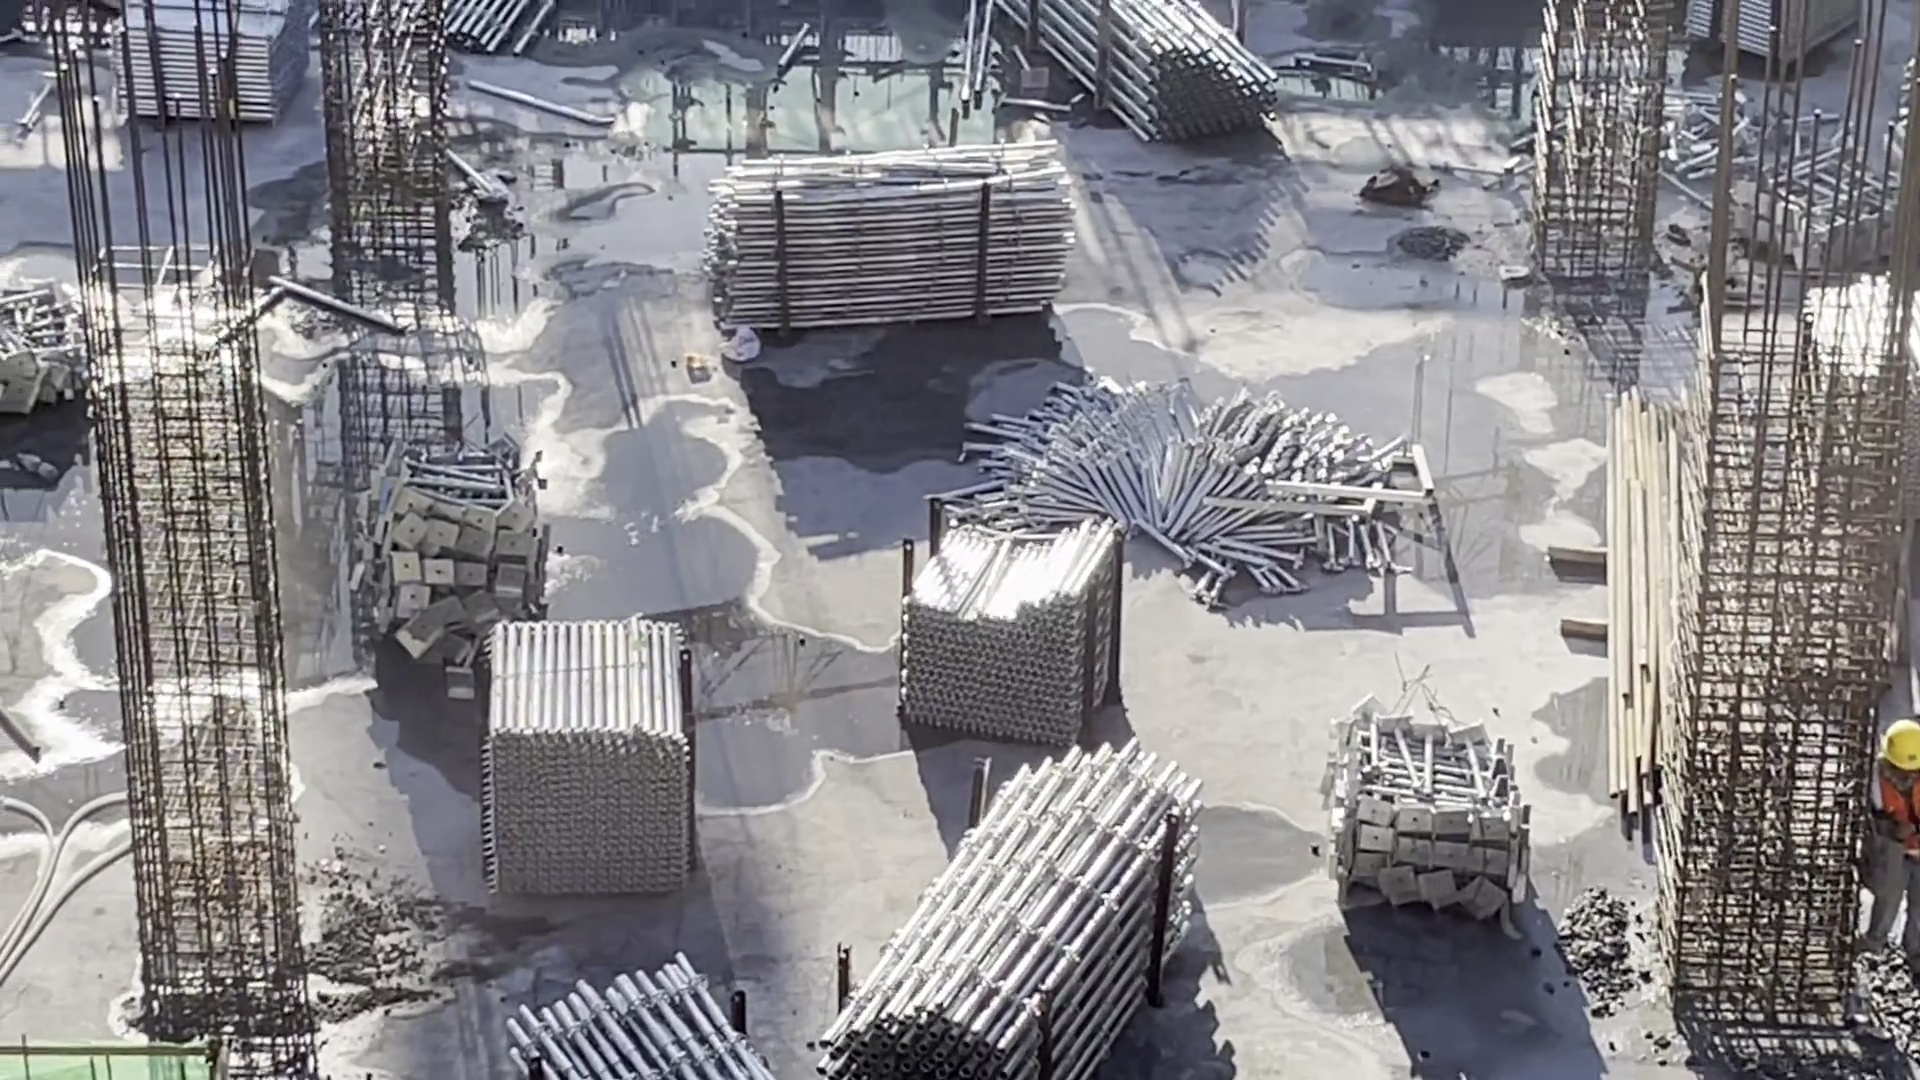helmet: (1882, 719, 1920, 770)
person: (1855, 722, 1920, 978)
scaffold: (772, 735, 1229, 1057), (978, 368, 1450, 614), (699, 140, 1100, 346), (469, 608, 728, 919), (873, 500, 1139, 735), (1316, 703, 1539, 924), (352, 446, 566, 676), (501, 936, 792, 1080), (1667, 100, 1906, 276), (1001, 1, 1290, 137), (1786, 278, 1920, 494), (122, 1, 334, 133), (1, 288, 107, 431), (1688, 1, 1875, 79)
vest: (1875, 765, 1920, 849)
